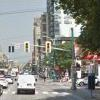Car: (12, 66, 43, 98)
